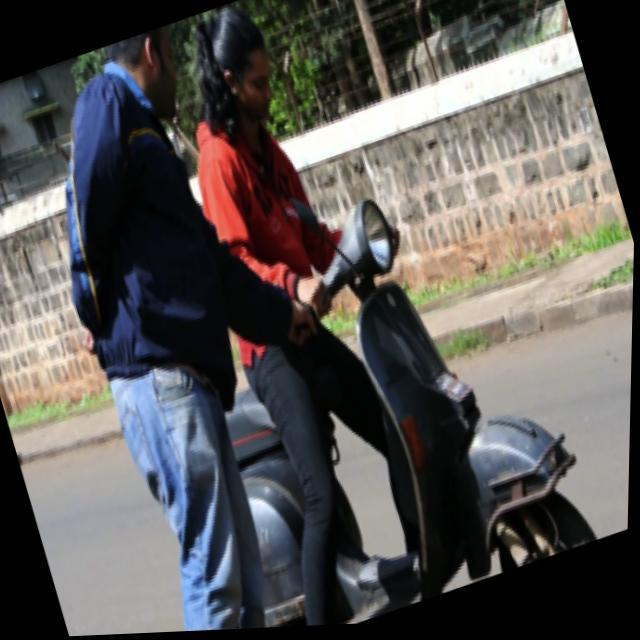Nonhelmet: (188, 0, 287, 144)
